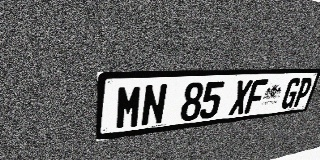5: (199, 81, 225, 119)
8: (179, 82, 206, 122)
F: (244, 79, 268, 114)
G: (280, 78, 302, 109)
M: (115, 85, 144, 130)
N: (140, 83, 168, 127)
P: (292, 77, 314, 108)
X: (228, 80, 253, 116)
